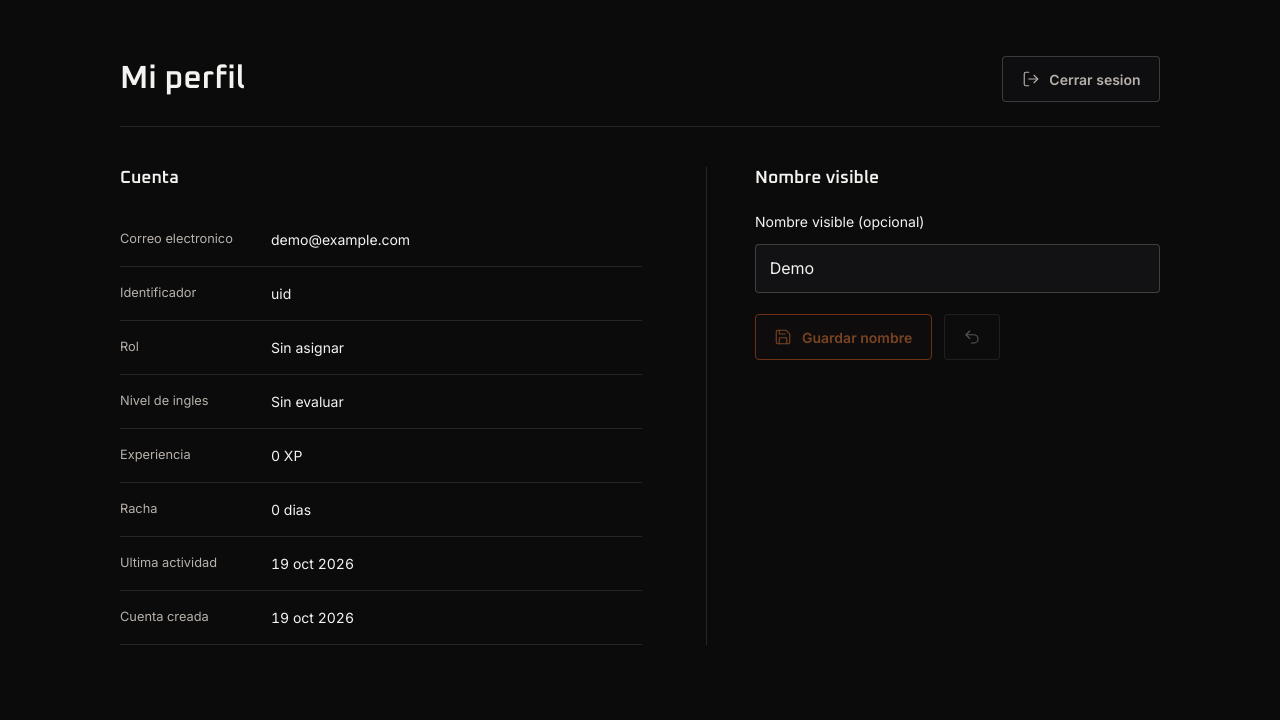
Test: perfil › muestra detalles de validacion del backend sin perder el texto
The image size is (1280, 720).
Replace the text in the field labelled "Nombre visible (opcional)" with "Nuevo nombre" at (958,268), box [755, 244, 1160, 293]
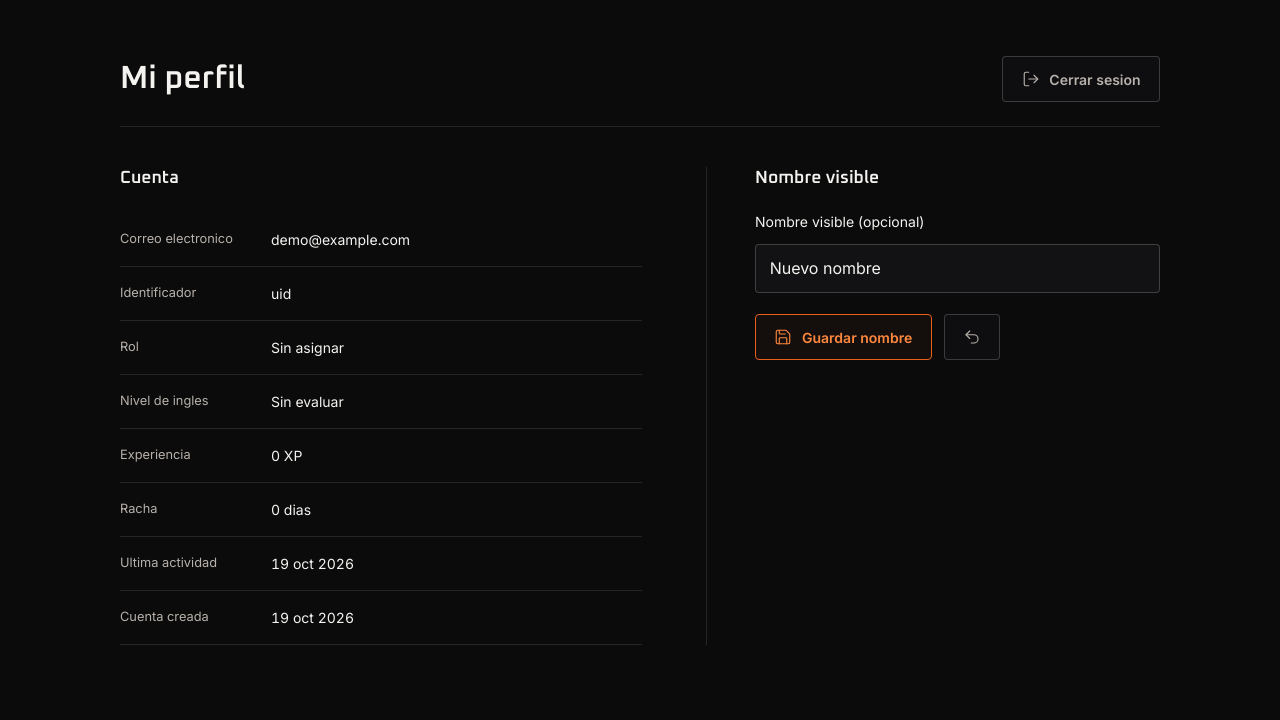
Click the button "Guardar nombre" at (843,337), box [755, 314, 932, 360]
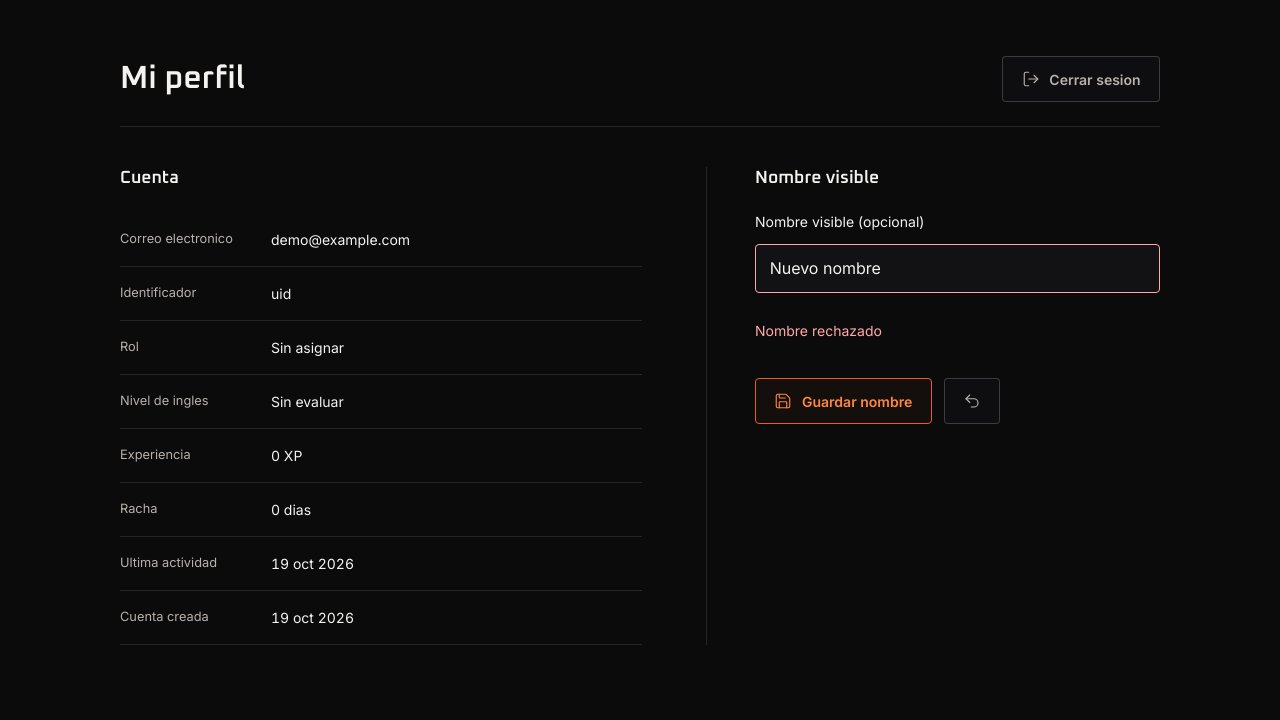
Now the message reads "Nombre rechazado", box [755, 322, 882, 339]
